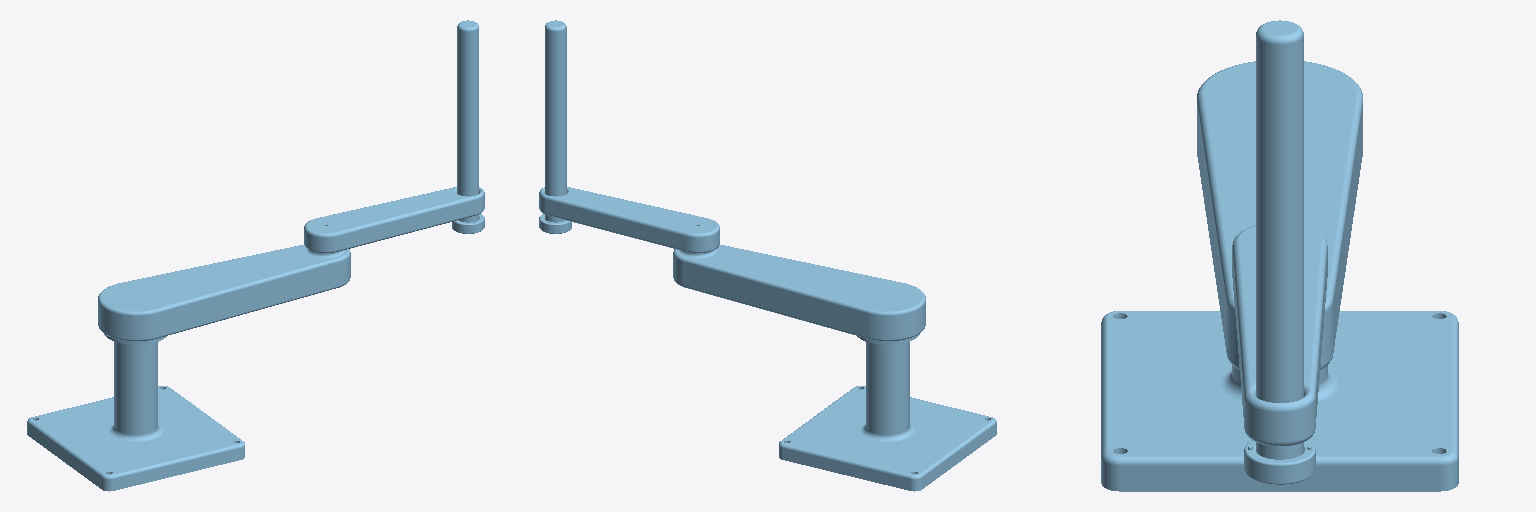
robot.urdf — scara:
<?xml version="1.0" ?>
<!-- Generated using onshape-to-robot -->
<!-- Onshape document_id: 380d47dc15041a993e935082 -->
<robot name="scara">
  <!-- Link base_link -->
  <link name="base_link">
    <inertial>
      <origin xyz="-0 -0 0.0342676" rpy="0 0 0"/>
      <mass value="1.40467"/>
      <inertia ixx="0.00428487" ixy="0" ixz="0" iyy="0.00428487" iyz="0" izz="0.00349236"/>
    </inertial>
    <!-- Part base_link -->
    <visual>
      <origin xyz="-0 -0 0" rpy="0 -0 0"/>
      <geometry>
        <mesh filename="package://scara_description/meshes/base_link.stl"/>
      </geometry>
      <material name="base_link_material">
        <color rgba="0.615686 0.811765 0.929412 1"/>
      </material>
    </visual>
    <collision>
      <origin xyz="-0 -0 0" rpy="0 -0 0"/>
      <geometry>
        <mesh filename="package://scara_description/meshes/base_link.stl"/>
      </geometry>
    </collision>
  </link>
  <!-- Link link_1 -->
  <link name="link_1">
    <inertial>
      <origin xyz="0.078594 -4.1866e-08 -0.00559745" rpy="0 0 0"/>
      <mass value="0.204383"/>
      <inertia ixx="0.000116409" ixy="1.37e-10" ixz="4.71998e-05" iyy="0.00132136" iyz="1.68e-10" izz="0.00138953"/>
    </inertial>
    <!-- Part link_1 -->
    <visual>
      <origin xyz="0 -0 0.015" rpy="3.14159 0 -0"/>
      <geometry>
        <mesh filename="package://scara_description/meshes/link_1.stl"/>
      </geometry>
      <material name="link_1_material">
        <color rgba="0.615686 0.811765 0.929412 1"/>
      </material>
    </visual>
    <collision>
      <origin xyz="0 -0 0.015" rpy="3.14159 0 -0"/>
      <geometry>
        <mesh filename="package://scara_description/meshes/link_1.stl"/>
      </geometry>
    </collision>
  </link>
  <!-- Link link_2 -->
  <link name="link_2">
    <inertial>
      <origin xyz="0.0638962 -2.2978e-08 0.00238646" rpy="0 0 0"/>
      <mass value="0.0892989"/>
      <inertia ixx="1.76274e-05" ixy="2.4e-11" ixz="-1.88339e-06" iyy="0.000306339" iyz="-1.8e-11" izz="0.000317061"/>
    </inertial>
    <!-- Part link_2 -->
    <visual>
      <origin xyz="0 -0 0.015" rpy="3.14159 -0 0"/>
      <geometry>
        <mesh filename="package://scara_description/meshes/link_2.stl"/>
      </geometry>
      <material name="link_2_material">
        <color rgba="0.615686 0.811765 0.929412 1"/>
      </material>
    </visual>
    <collision>
      <origin xyz="0 -0 0.015" rpy="3.14159 -0 0"/>
      <geometry>
        <mesh filename="package://scara_description/meshes/link_2.stl"/>
      </geometry>
    </collision>
  </link>
  <!-- Link z_rod -->
  <link name="z_rod">
    <inertial>
      <origin xyz="-0 0 -0.0848207" rpy="0 0 0"/>
      <mass value="0.170595"/>
      <inertia ixx="0.000570892" ixy="0" ixz="0" iyy="0.000570892" iyz="0" izz="8.51804e-06"/>
    </inertial>
    <!-- Part z_rod -->
    <visual>
      <origin xyz="-0 0 0.015" rpy="3.14159 -0 0"/>
      <geometry>
        <mesh filename="package://scara_description/meshes/z_rod.stl"/>
      </geometry>
      <material name="z_rod_material">
        <color rgba="0.615686 0.811765 0.929412 1"/>
      </material>
    </visual>
    <collision>
      <origin xyz="-0 0 0.015" rpy="3.14159 -0 0"/>
      <geometry>
        <mesh filename="package://scara_description/meshes/z_rod.stl"/>
      </geometry>
    </collision>
  </link>
  <!-- Link tool_flange -->
  <link name="tool_flange">
    <inertial>
      <origin xyz="-0 -0 -0.000679004" rpy="0 0 0"/>
      <mass value="0.0144407"/>
      <inertia ixx="1.07047e-06" ixy="-0" ixz="0" iyy="1.0678e-06" iyz="0" izz="1.91439e-06"/>
    </inertial>
    <!-- Part tool_flange -->
    <visual>
      <origin xyz="0 -0 -0.005" rpy="0 -0 -0"/>
      <geometry>
        <mesh filename="package://scara_description/meshes/tool_flange.stl"/>
      </geometry>
      <material name="tool_flange_material">
        <color rgba="0.615686 0.811765 0.929412 1"/>
      </material>
    </visual>
    <collision>
      <origin xyz="0 -0 -0.005" rpy="0 -0 -0"/>
      <geometry>
        <mesh filename="package://scara_description/meshes/tool_flange.stl"/>
      </geometry>
    </collision>
  </link>
  <!-- Joint from z_rod to tool_flange -->
  <joint name="joint4" type="revolute">
    <origin xyz="-0 0 0.015" rpy="3.14159 -0 -0"/>
    <parent link="z_rod"/>
    <child link="tool_flange"/>
    <axis xyz="0 0 1"/>
    <limit effort="10" velocity="2" lower="-3.1416" upper="3.1416"/>
  </joint>
  <!-- Joint from link_2 to z_rod -->
  <joint name="joint3_z" type="prismatic">
    <origin xyz="0.15 -0 0.012" rpy="-0 0 -0"/>
    <parent link="link_2"/>
    <child link="z_rod"/>
    <axis xyz="0 0 1"/>
    <limit effort="10" velocity="0.5" lower="0" upper="0.1"/>
  </joint>
  <!-- Joint from link_1 to link_2 -->
  <joint name="joint_2" type="revolute">
    <origin xyz="0.2 -0 -0.035" rpy="-0 0 0"/>
    <parent link="link_1"/>
    <child link="link_2"/>
    <axis xyz="0 0 1"/>
    <limit effort="10" velocity="2" lower="-2.531" upper="2.531"/>
  </joint>
  <!-- Joint from base_link to link_1 -->
  <joint name="joint_1" type="revolute">
    <origin xyz="-0 -0 0.135" rpy="-3.14159 -0 -0"/>
    <parent link="base_link"/>
    <child link="link_1"/>
    <axis xyz="0 0 1"/>
    <limit effort="10" velocity="2" lower="-2.618" upper="2.618"/>
  </joint>

  <!-- World anchor for Gazebo -->
  <link name="world"/>
  <joint name="world_fixed" type="fixed">
    <parent link="world"/>
    <child link="base_link"/>
    <origin xyz="0 0 0" rpy="0 0 0"/>
  </joint>

  <!-- ros2_control: effort command, position+velocity state -->
  <ros2_control name="GazeboSystem" type="system">
    <hardware>
      <plugin>gazebo_ros2_control/GazeboSystem</plugin>
    </hardware>
    <joint name="joint_1">
      <command_interface name="effort"/>
      <state_interface name="position"/>
      <state_interface name="velocity"/>
    </joint>
    <joint name="joint_2">
      <command_interface name="effort"/>
      <state_interface name="position"/>
      <state_interface name="velocity"/>
    </joint>
    <joint name="joint3_z">
      <command_interface name="effort"/>
      <state_interface name="position"/>
      <state_interface name="velocity"/>
    </joint>
    <joint name="joint4">
      <command_interface name="effort"/>
      <state_interface name="position"/>
      <state_interface name="velocity"/>
    </joint>
  </ros2_control>

  <gazebo>
    <plugin filename="libgazebo_ros2_control.so" name="gazebo_ros2_control">
      <parameters>@CONTROLLERS_YAML@</parameters>
    </plugin>
  </gazebo>
</robot>

--- Render facts (derived) ---
The picture shows the robot from 3 angles, left to right: view 1: azimuth 30°, elevation 25°; view 2: azimuth 150°, elevation 25°; view 3: azimuth 270°, elevation 25°; orthographic projection.
Robot: scara — 6 links, 5 joints (3 revolute, 1 prismatic, 1 fixed); root link world; default pose: all joints at 0.
Links seen in each view (by area): view 1: base_link, link_1, link_2, z_rod; view 2: base_link, link_1, link_2, z_rod; view 3: base_link, link_1, z_rod, link_2, tool_flange.
Link boxes in pixels (x1=…): base_link: x1=27, y1=334, x2=244, y2=491; link_1: x1=98, y1=245, x2=350, y2=340; link_2: x1=304, y1=187, x2=484, y2=253; z_rod: x1=457, y1=20, x2=478, y2=222; base_link: x1=779, y1=334, x2=996, y2=491; link_1: x1=673, y1=245, x2=925, y2=340; link_2: x1=539, y1=187, x2=719, y2=253; z_rod: x1=545, y1=20, x2=566, y2=222; base_link: x1=1101, y1=311, x2=1458, y2=491; link_1: x1=1197, y1=61, x2=1362, y2=369; z_rod: x1=1256, y1=20, x2=1303, y2=459; link_2: x1=1232, y1=225, x2=1327, y2=446; tool_flange: x1=1244, y1=440, x2=1315, y2=484.
Size in the robot's own frame: 0.44 by 0.15 by 0.343 metres.
Meshes: 5 distinct files referenced, 5 mesh visuals loaded (5 binary STL).
